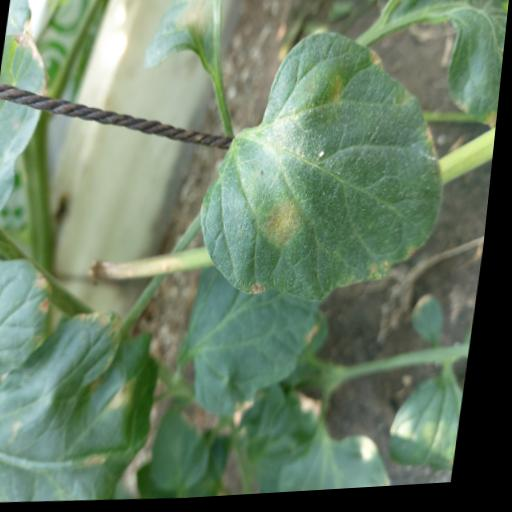Leaf Mold: (191, 25, 466, 317), (0, 242, 183, 510)
